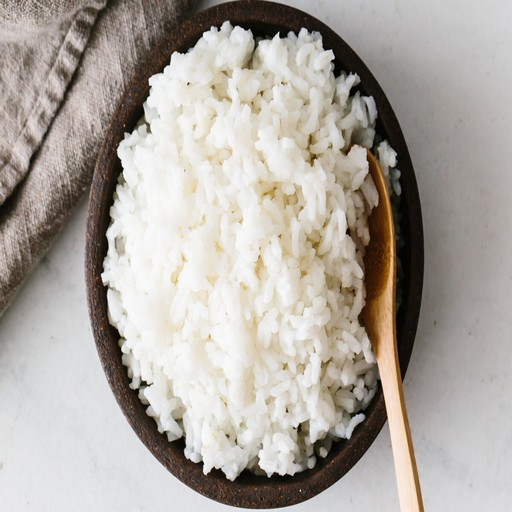rice: (157, 95, 317, 431)
